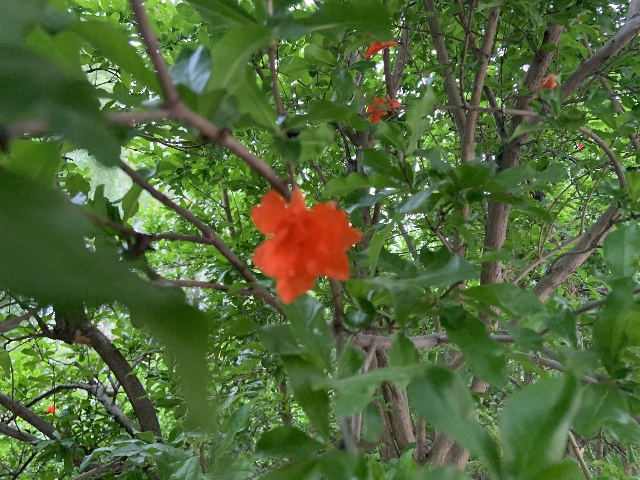bud: (540, 73, 556, 89)
flower: (251, 186, 362, 305), (366, 93, 400, 123), (363, 32, 397, 58), (46, 405, 57, 413)
